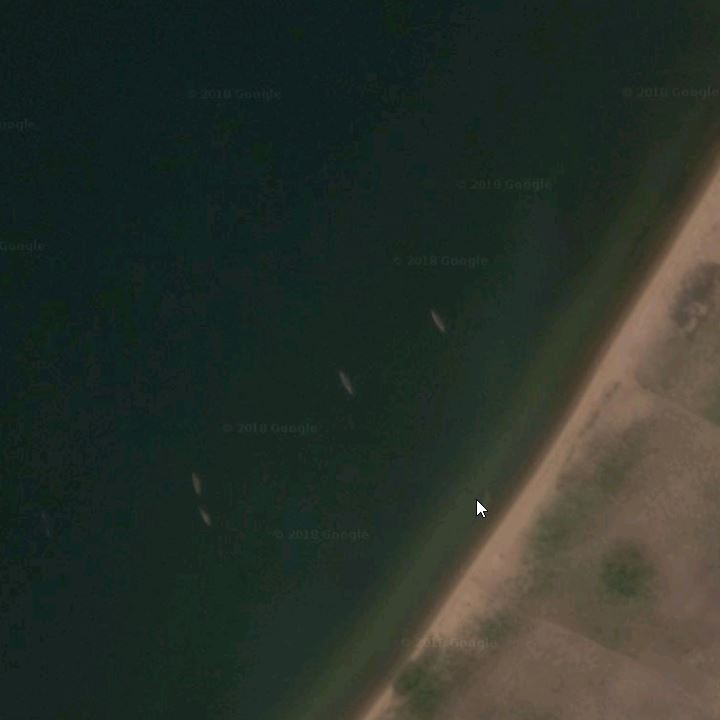boat: (424, 299, 453, 344), (194, 499, 223, 535), (333, 363, 356, 401), (185, 463, 206, 502)
